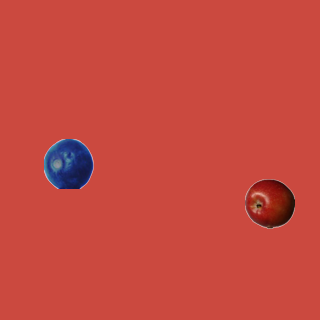Apple Braeburn: (244, 178, 294, 228)
Huckleberry: (43, 138, 93, 188)
